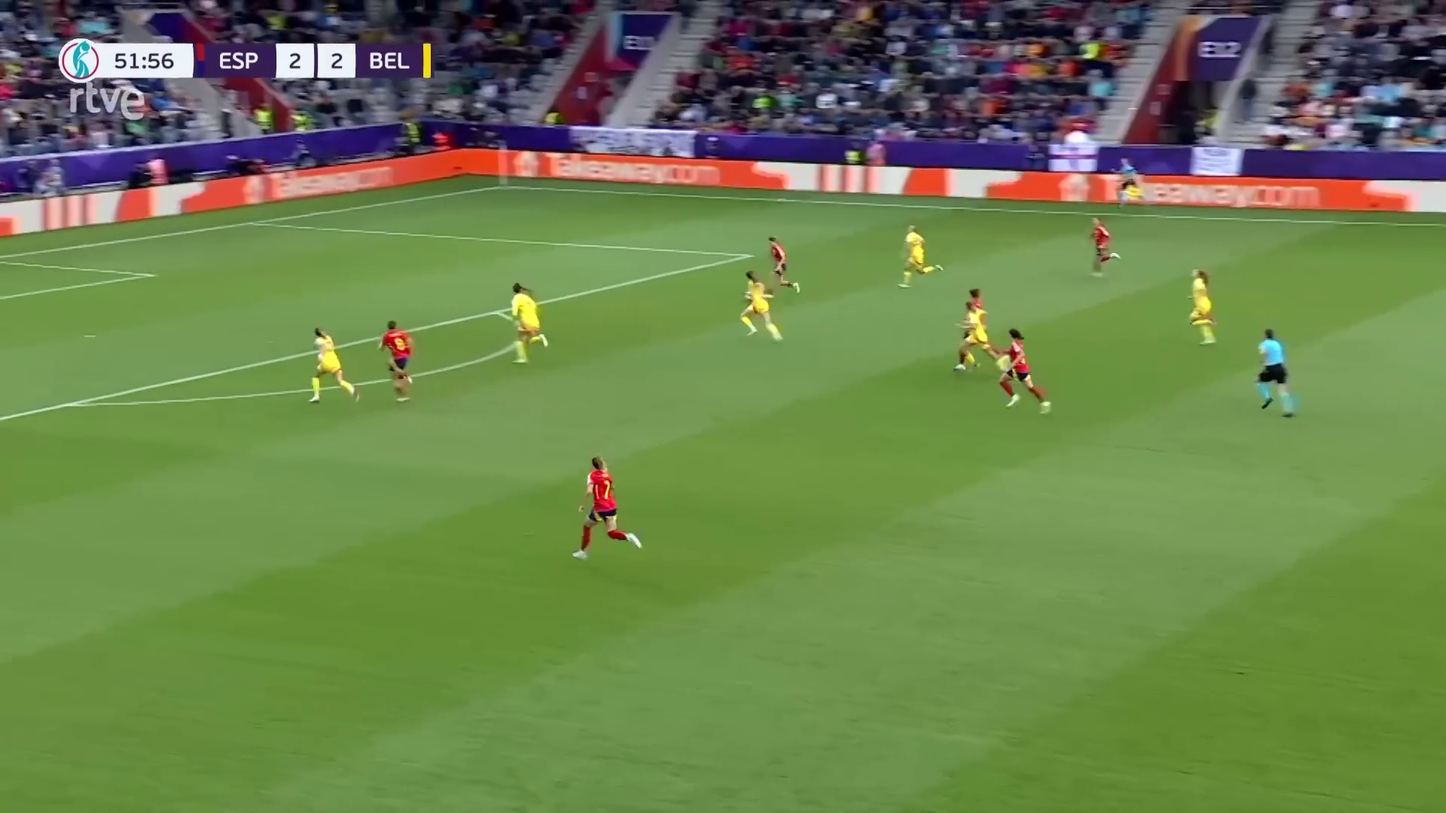ball: (744, 292, 751, 299)
player: (568, 454, 644, 562), (997, 327, 1053, 415), (303, 326, 363, 407), (502, 281, 553, 364), (374, 318, 421, 404), (953, 300, 1002, 372), (737, 271, 785, 342), (896, 224, 945, 290), (1184, 267, 1221, 347), (954, 286, 987, 372), (1084, 215, 1123, 278), (766, 235, 802, 295)
referee: (1251, 327, 1302, 419), (1113, 156, 1146, 212)
